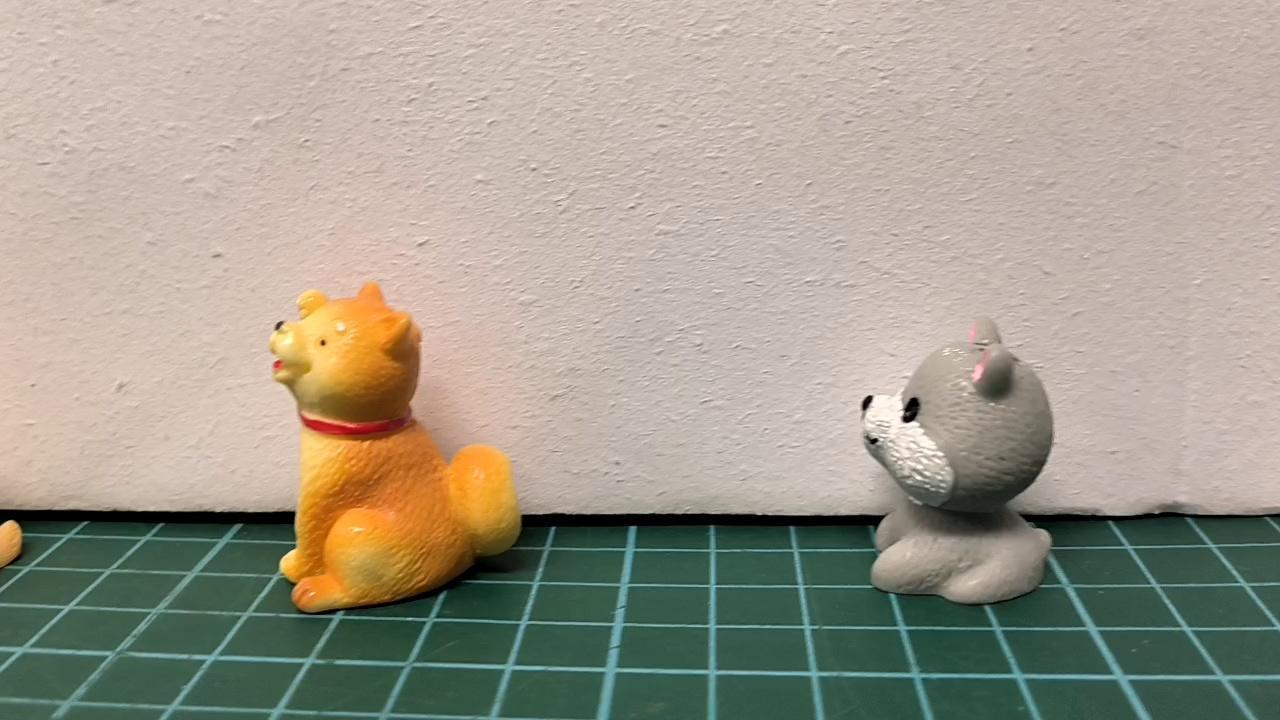pet: (851, 310, 1058, 608)
